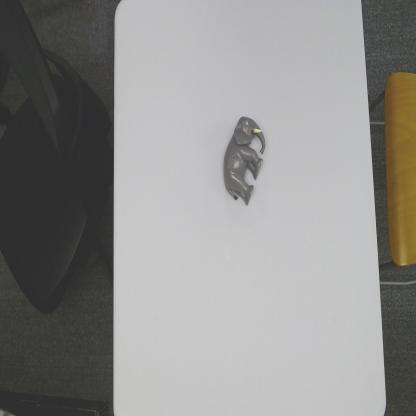Elephant: (222, 115, 266, 207)
